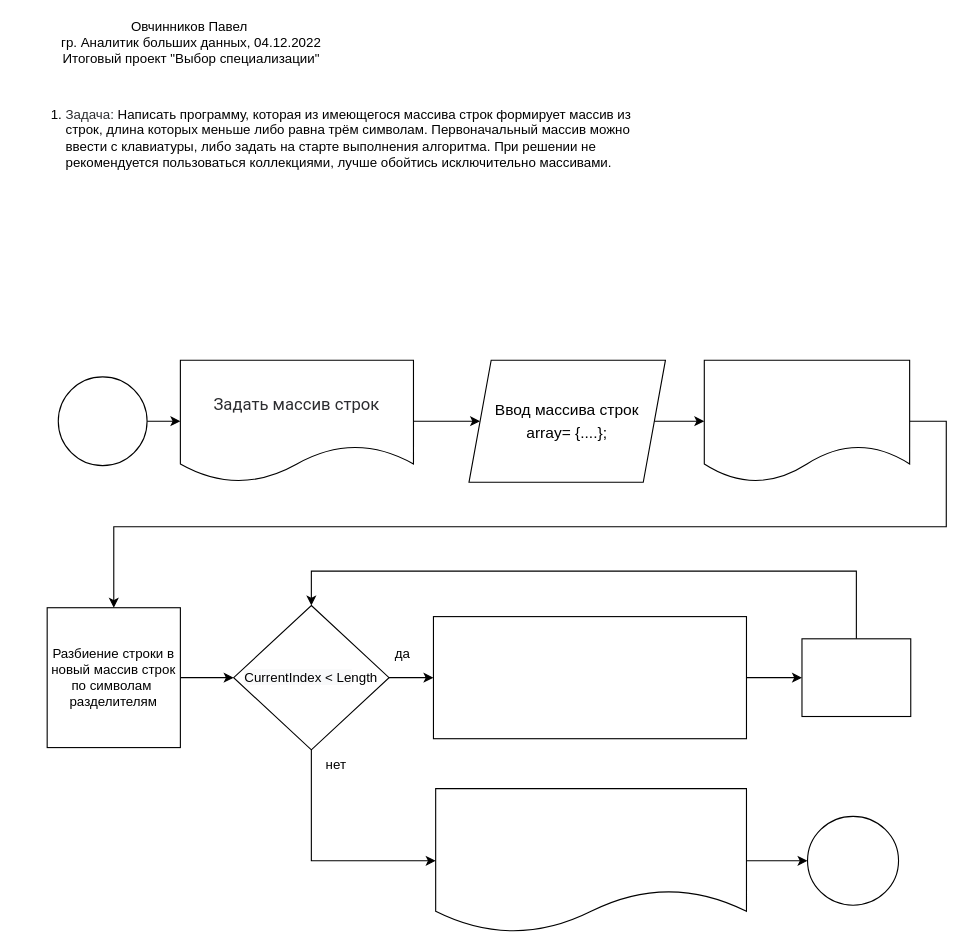
The diagram is 975 pixels wide and 952 high, and some of its shapes have lost their labels. The centre of each missing label's shape, as x and y in pixels:
End: point (852, 860)
start: point (102, 421)
